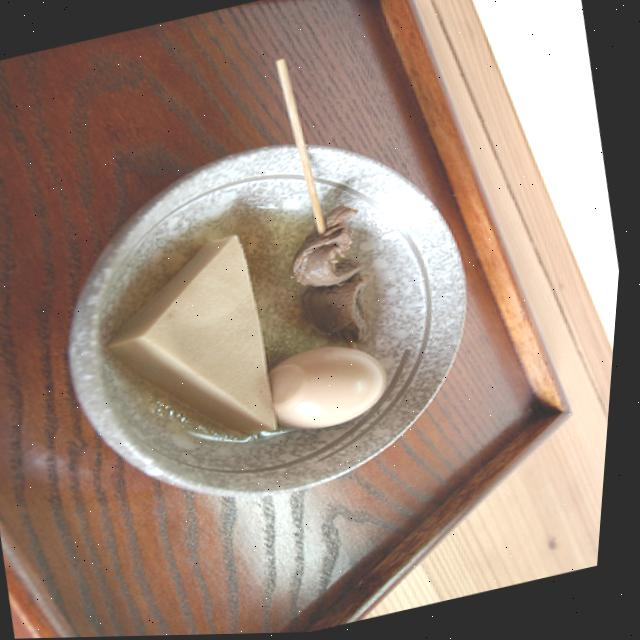汤锅炖物: (82, 198, 422, 484)
